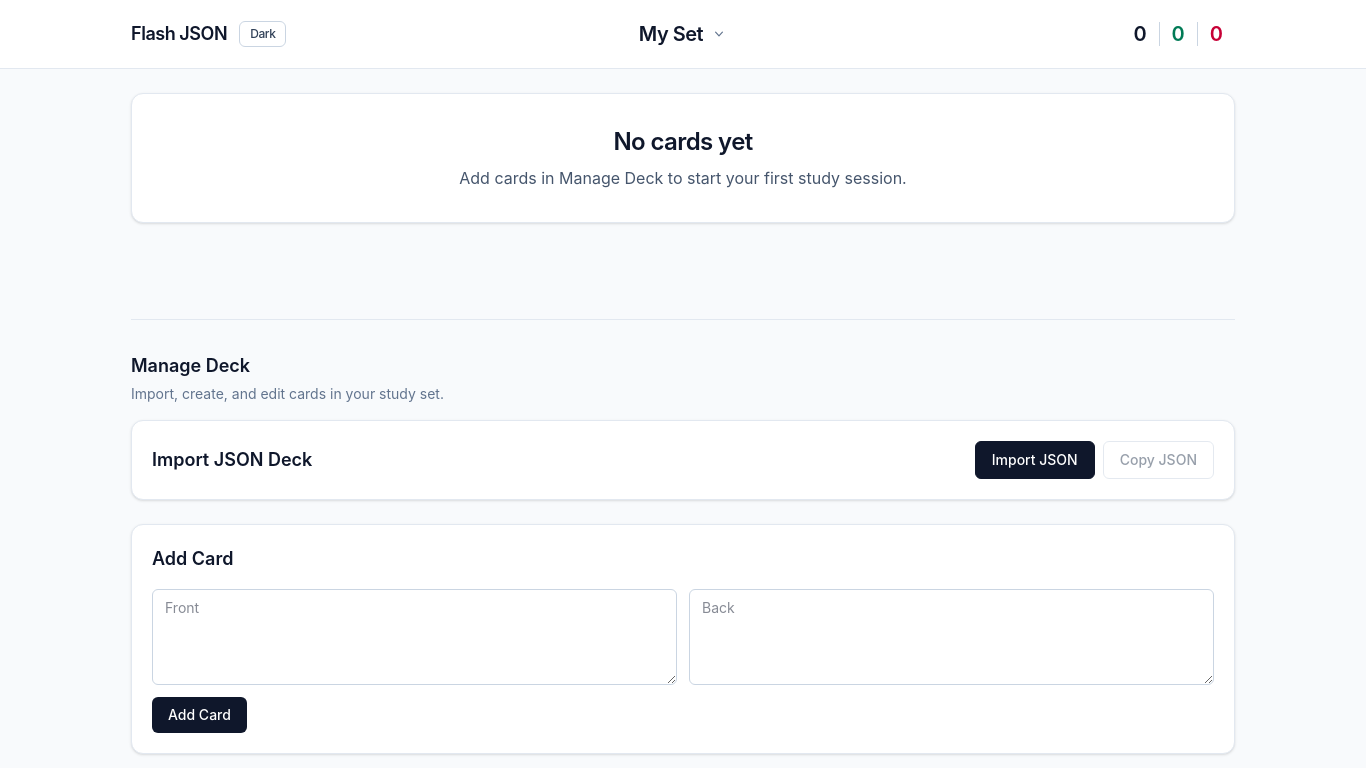
Scenario: FlashcardApp with study sets › closes the dropdown with Escape
The image size is (1366, 768).
Click the button with aria-label "Study set:".
click(683, 34)  # box x1=627 y1=16 x2=739 y2=52
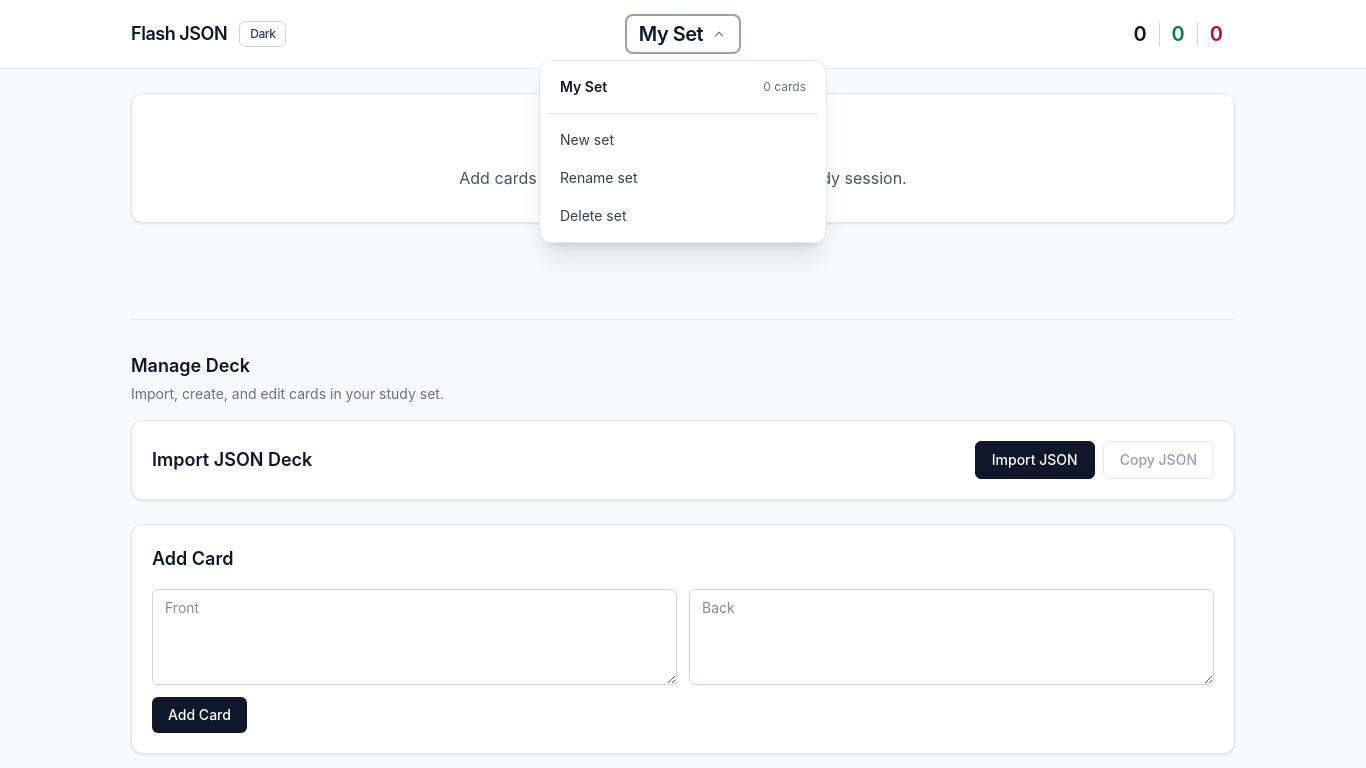
Now the button with aria-label "Study set:" is expanded, box x1=627 y1=16 x2=739 y2=52
Press Escape
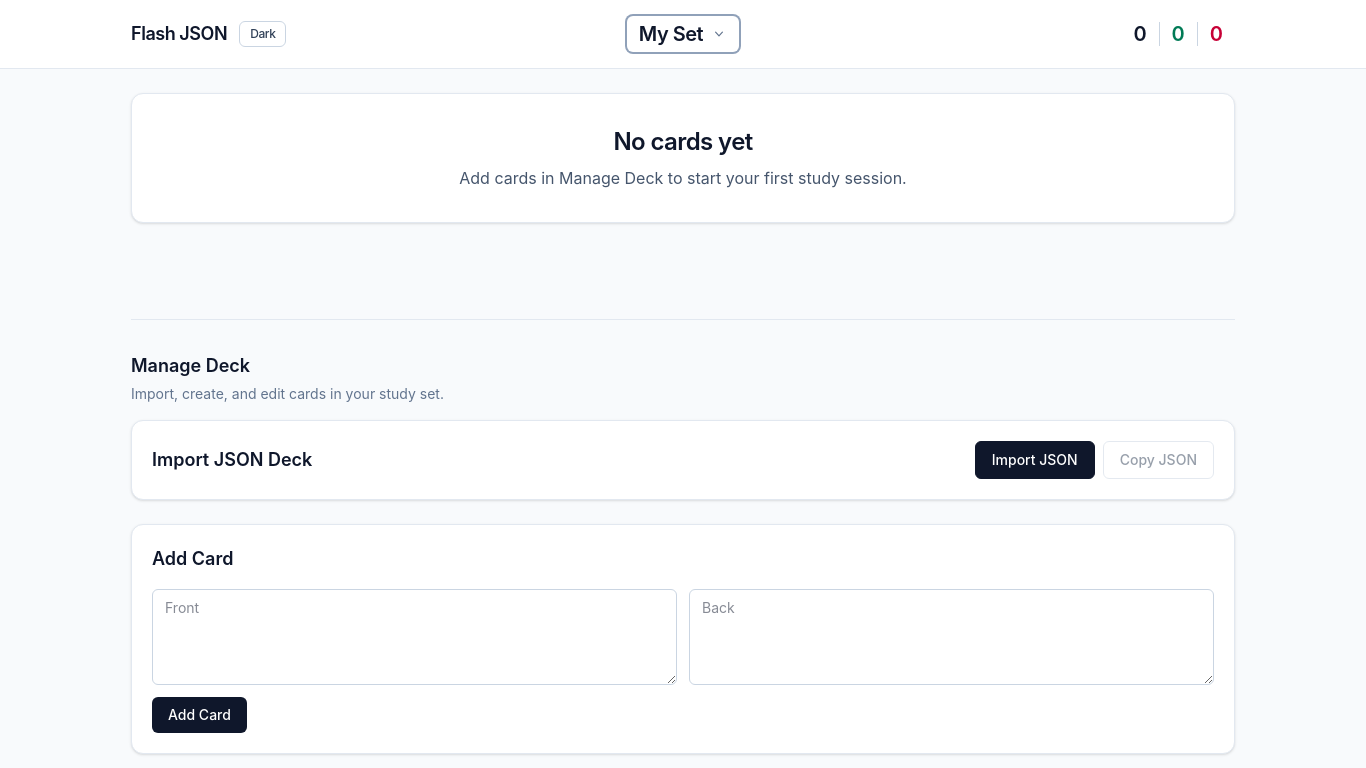
Now the button with aria-label "Study set:" is collapsed, box x1=627 y1=16 x2=739 y2=52
